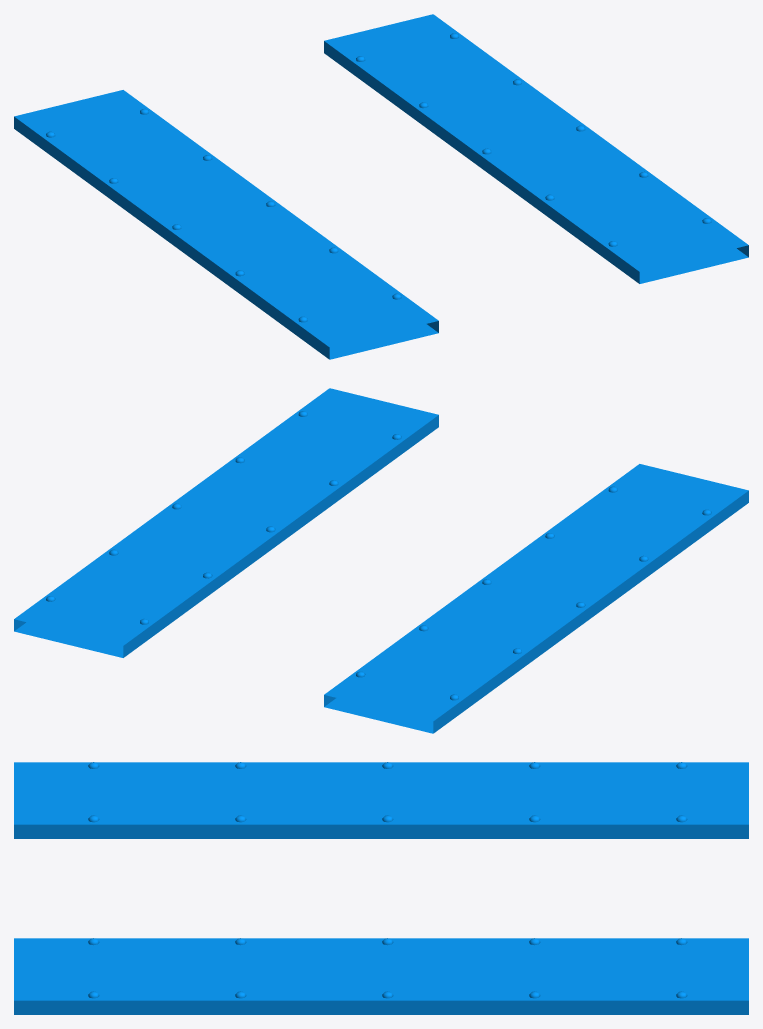
Rendered from Bridge3.fbx.
The picture shows the model from 3 angles, top to bottom: view 1: azimuth 30°, elevation 25°; view 2: azimuth 150°, elevation 25°; view 3: azimuth 270°, elevation 25°; orthographic projection. The views are drawn at different scales.
Parts seen in each view (by area): view 1: Bridge; view 2: Bridge; view 3: Bridge.
Part boxes in pixels (box(x1,y1,x2,y2)): Bridge: box(14, 14, 748, 359); Bridge: box(14, 388, 748, 733); Bridge: box(14, 762, 748, 1014).
Size of the model in its own units: 6519 by 235 by 8500.
